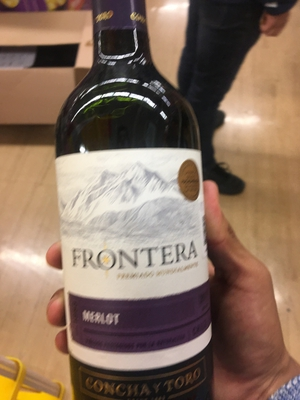frontera merlot: (37, 6, 224, 380)
